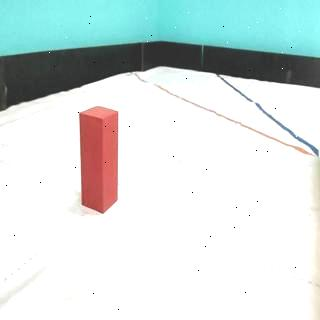redbox: (78, 104, 120, 214)
